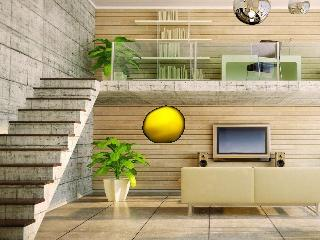lemon: (145, 108, 184, 144)
